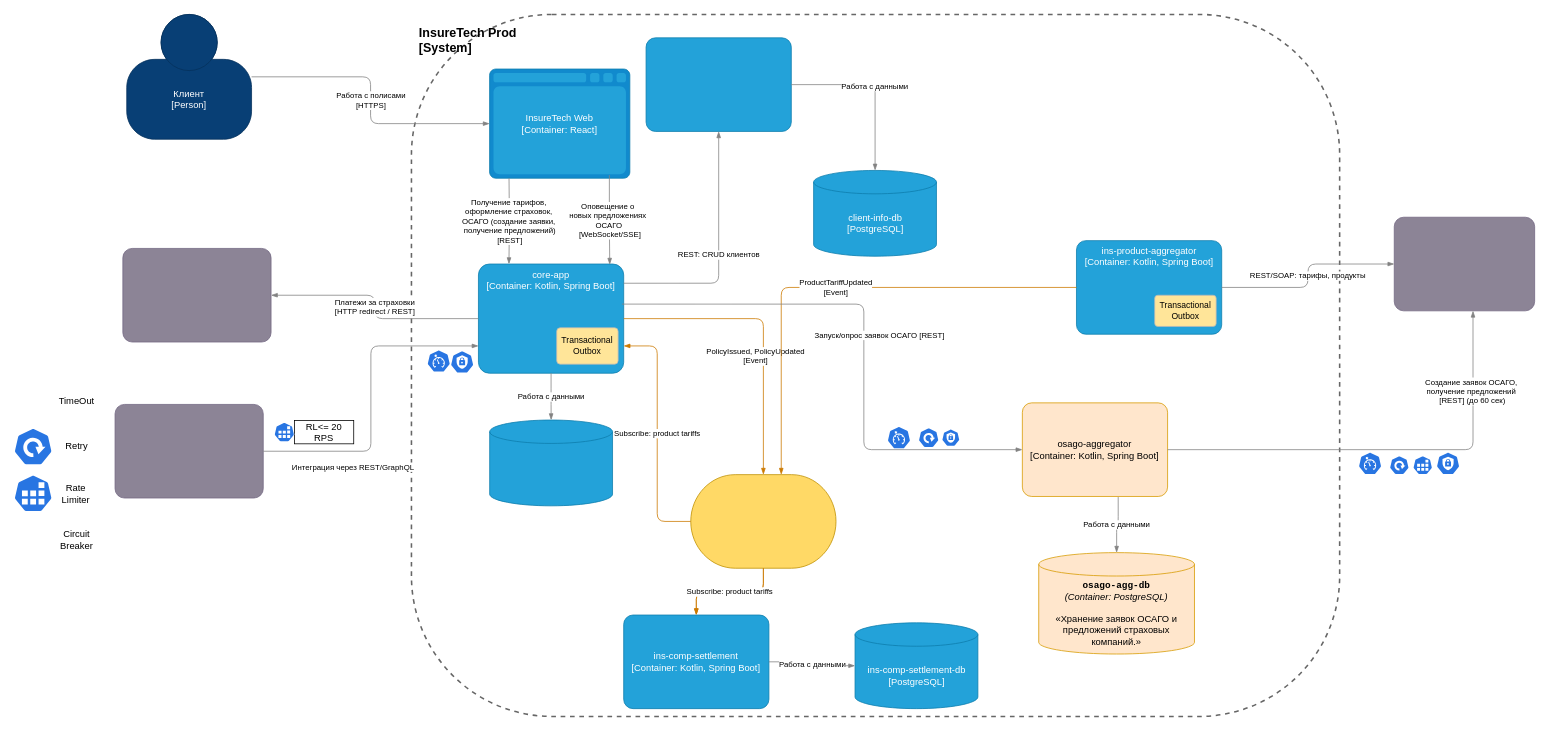
Some shapes in this 1548 by 730 pixel diagram are drawn without their labels. Here are the shapes that lost their labels. From the top down, the centre of each, then its label:
At [718,84]: "client-info [Container: Kotlin, Spring Boot]".
At [1464,263]: "Системы страховых компаний [External Software System]".
At [196,295]: "Платёжный сервис [External Software System]".
At [188,451]: "Системы партнёров [External Software System]".
At [551,462]: "core-db [PostgreSQL]".
At [763,521]: "Event Streaming Platform [Kafka / RabbitMQ]".
